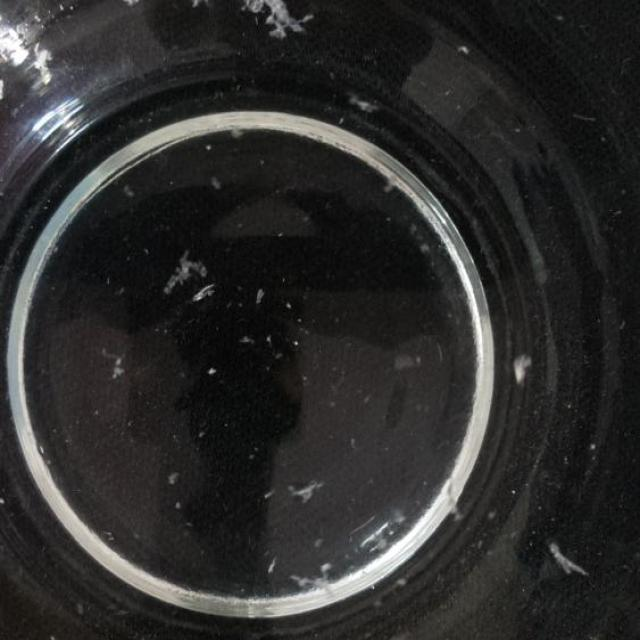fiber: (238, 0, 320, 54), (150, 247, 210, 294), (545, 538, 592, 594), (341, 80, 384, 124), (510, 342, 538, 390), (298, 562, 340, 594), (286, 477, 328, 505), (186, 280, 223, 306), (119, 169, 141, 210), (120, 0, 170, 17), (108, 356, 130, 394), (181, 0, 224, 19), (250, 279, 273, 312), (226, 122, 257, 146), (198, 358, 225, 382), (266, 553, 285, 583), (204, 167, 225, 191), (163, 461, 180, 490), (233, 328, 252, 350)
